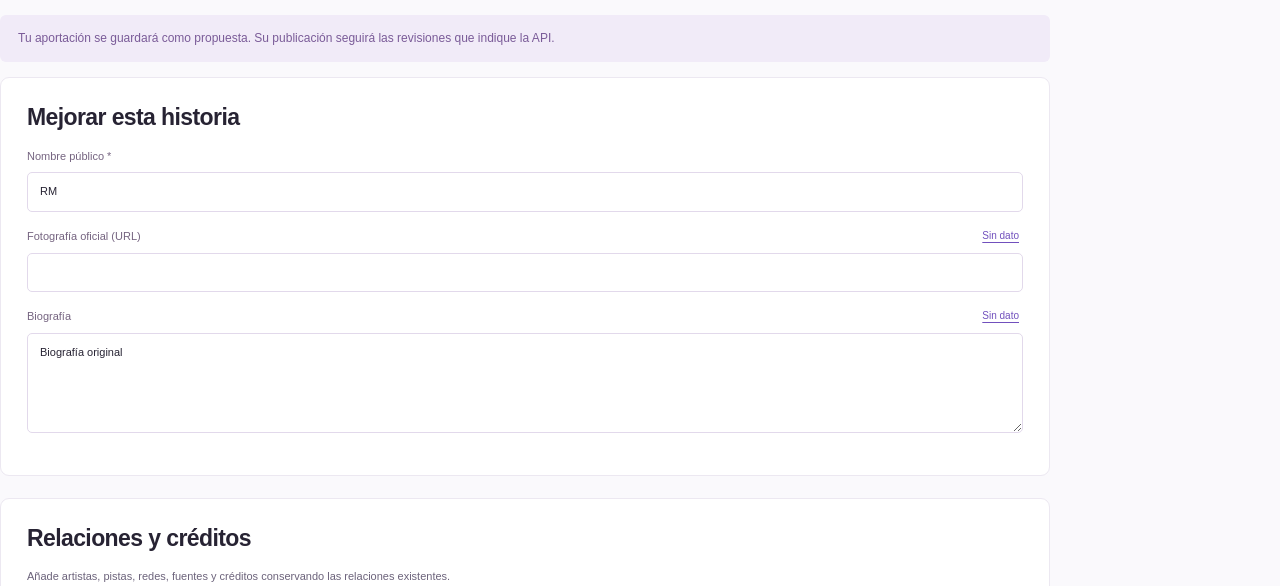
Test: contribuciones y privacidad › un guardado rechazado conserva texto, créditos y claves estables
Replace the text in the text box labelled "Biografía" with "Mi corrección con fuente". click: point(525, 383)
box: [27, 333, 1023, 433]
(page scrolled)
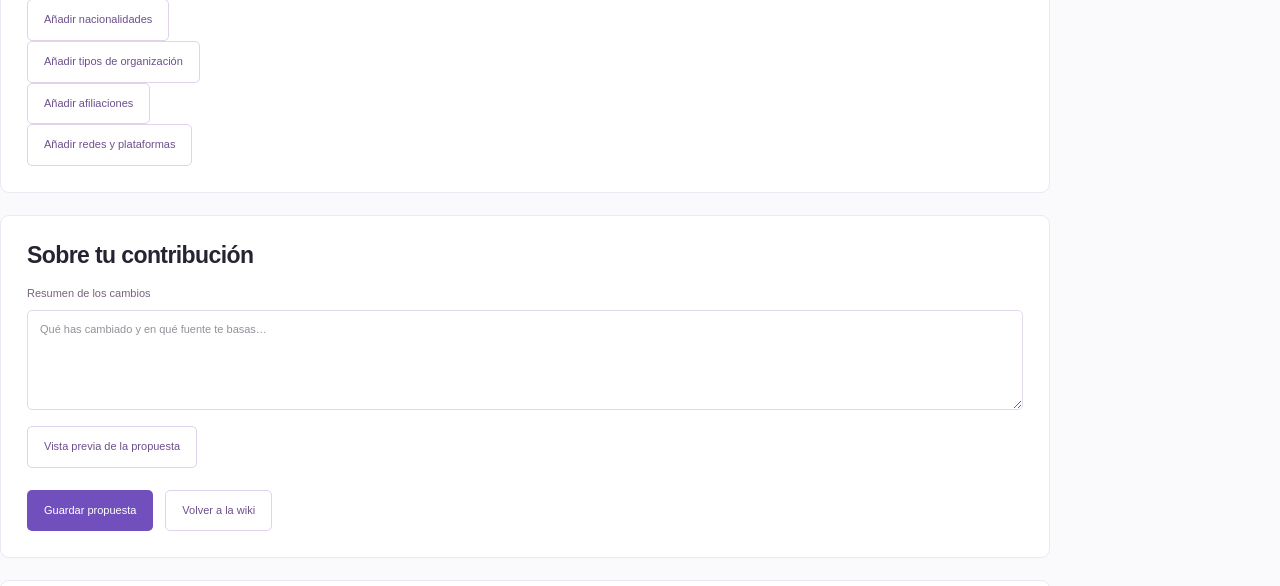
Type "Corregir biografía" into the text box labelled "Resumen de los cambios". click: point(525, 360)
box: [27, 310, 1023, 410]
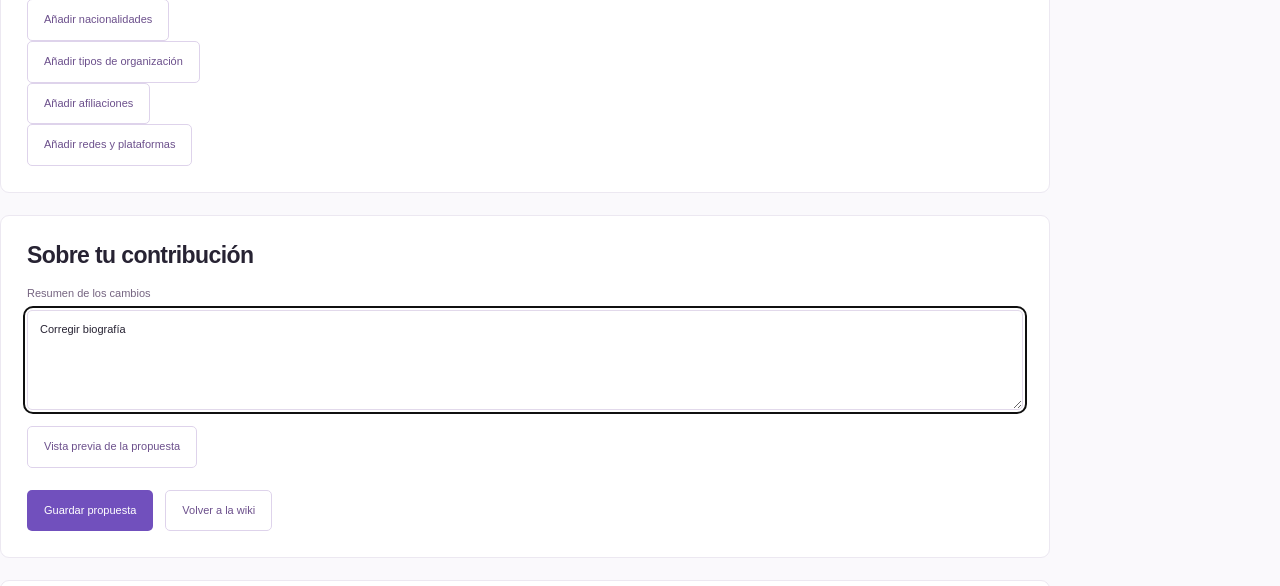
Click the button "Guardar propuesta". click: point(90, 510)
box: [27, 490, 153, 531]
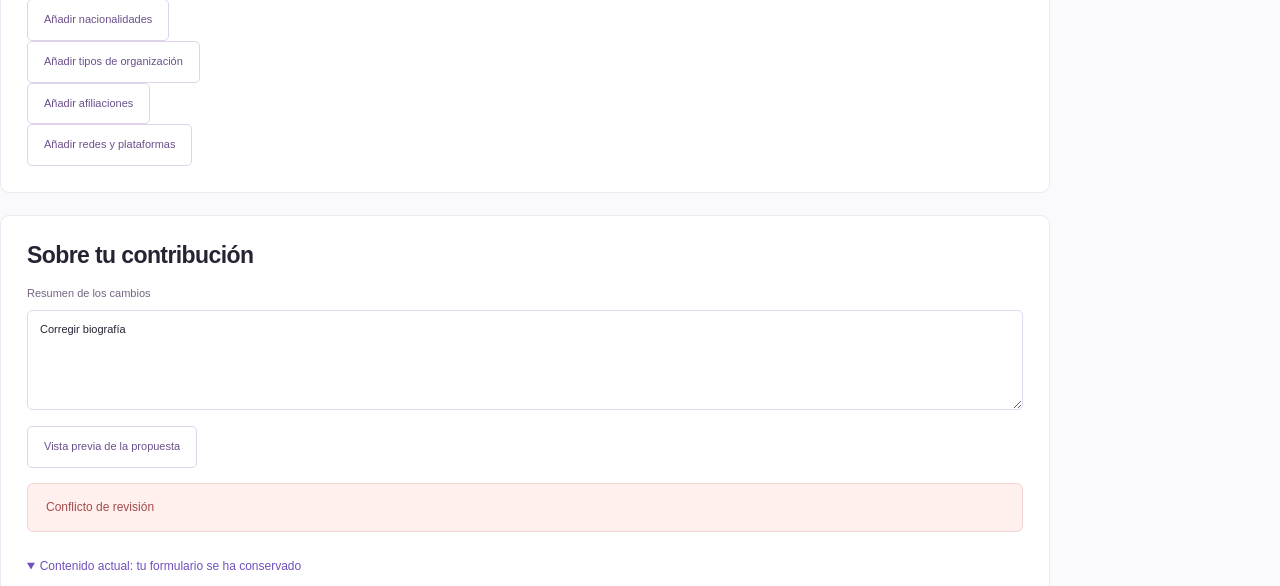
expect the message reads "Conflicto de revisión": met, box [46, 500, 154, 514]
